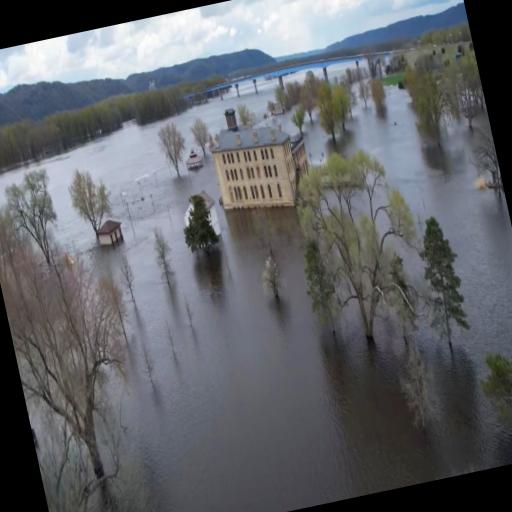flood: (40, 85, 512, 512), (170, 80, 274, 148), (0, 143, 88, 203), (302, 115, 334, 161), (282, 67, 324, 86), (326, 60, 357, 80), (275, 110, 298, 133)
house: (204, 107, 320, 226), (94, 214, 126, 251), (182, 144, 206, 175)
